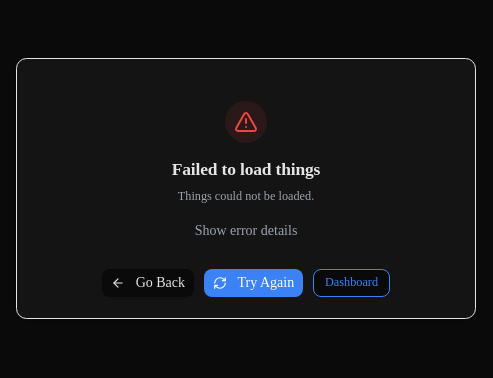
RouteErrorCard › shows and hides error details
The width and height of the screenshot is (493, 378).
What coordinates should you click on to do the following:
click the button "Show error details"
I would click on:
 (246, 230)
Its box is [195, 220, 297, 241].
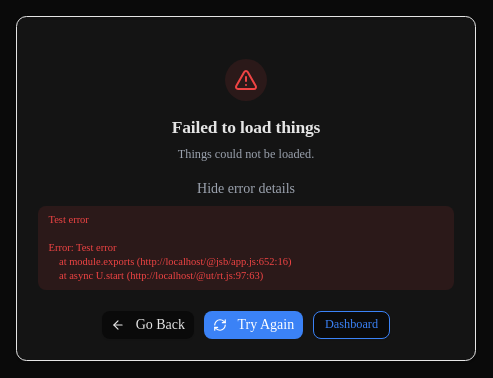
Result: the text "Test error" is shown at [48, 214, 89, 225]
Result: the button "Hide error details" is shown
What coordinates should you click on to do the following:
click the button "Hide error details"
I would click on:
 (246, 188)
Its box is [197, 178, 295, 199].
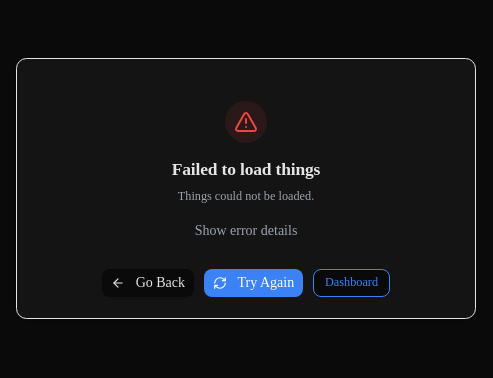
Result: the text "Test error" is gone
